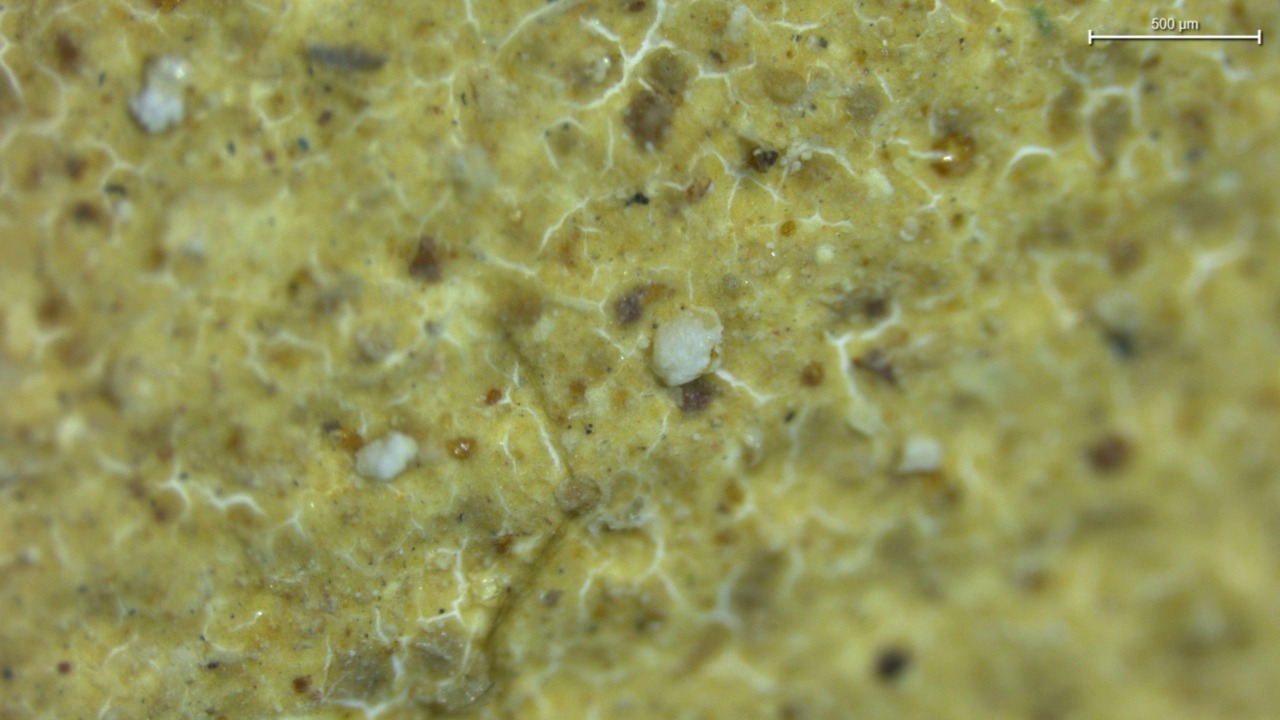microplastic_fragment: (652, 307, 723, 386), (356, 431, 418, 481)
